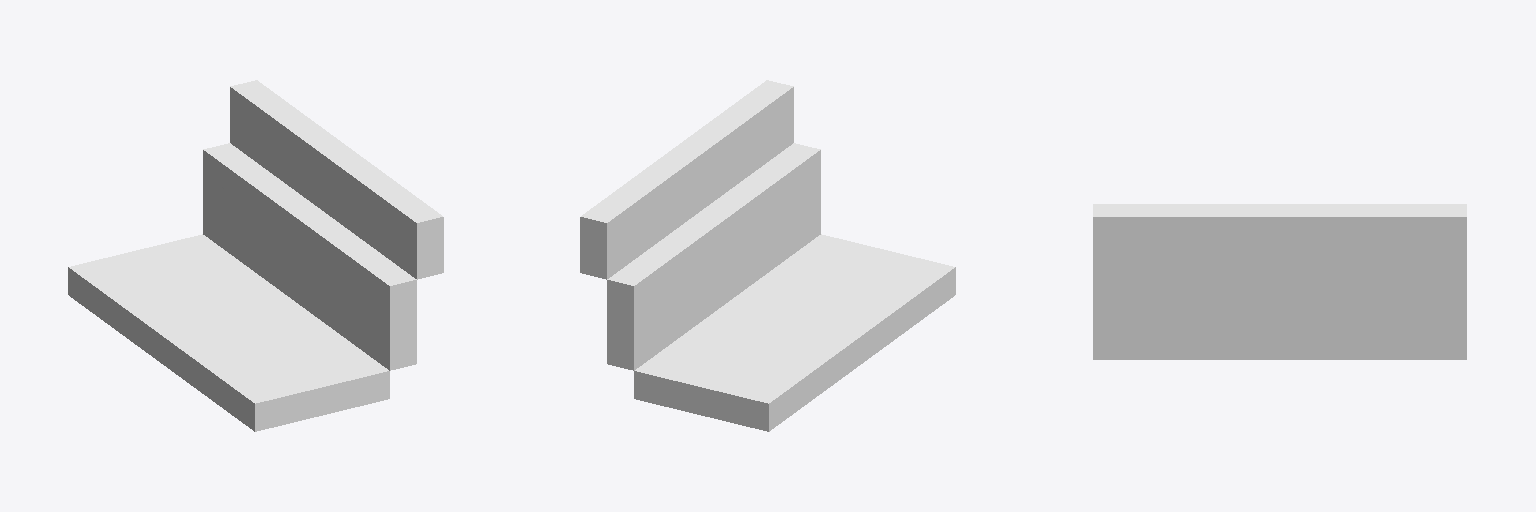
File: map1.23.vox.obj
3 views of the same model, side by side, from view 1: azimuth 30°, elevation 25°; view 2: azimuth 150°, elevation 25°; view 3: azimuth 270°, elevation 25° (orthographic).
Visible parts, largest first — view 1: object 1; view 2: object 1; view 3: object 1.
Part boxes in pixels (left/top/right/bottom): object 1: left=68, top=80, right=443, bottom=431; object 1: left=580, top=80, right=955, bottom=431; object 1: left=1093, top=204, right=1466, bottom=359.
Bounding box in the file's own units: 14 × 12 × 24.